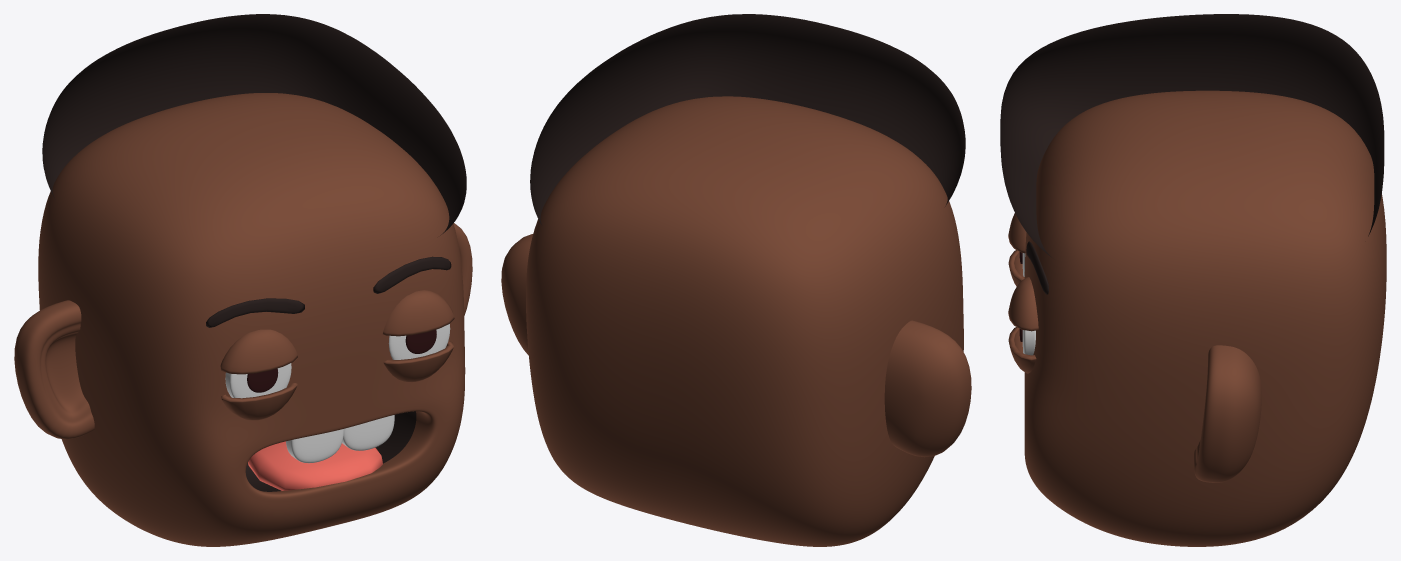
File: theguy.gltf
3 renders of one model, left to right at view 1: azimuth 30°, elevation 25°; view 2: azimuth 150°, elevation 25°; view 3: azimuth 270°, elevation 25°, orthographic. The views are drawn at different scales.
Parts seen in each view (by area): view 1: Cube, Cube.001, Sphere, Cube.005, Cube.002, Plane, Cube.003, Cube.004; view 2: Cube, Cube.001; view 3: Cube, Cube.001, Sphere.
Part boxes in pixels (bbox=[...]): Cube: bbox=[38, 14, 466, 546]; Cube.001: bbox=[14, 223, 472, 439]; Sphere: bbox=[220, 290, 454, 420]; Cube.005: bbox=[248, 441, 382, 490]; Cube.002: bbox=[225, 324, 450, 398]; Plane: bbox=[206, 256, 451, 327]; Cube.003: bbox=[286, 429, 343, 463]; Cube.004: bbox=[342, 415, 394, 450]; Cube: bbox=[526, 14, 965, 546]; Cube.001: bbox=[501, 234, 971, 457]; Cube: bbox=[1000, 14, 1386, 546]; Cube.001: bbox=[1194, 345, 1261, 482]; Sphere: bbox=[1008, 213, 1038, 373].
Size of the model in its own units: 2.86 by 2.74 by 2.12.
